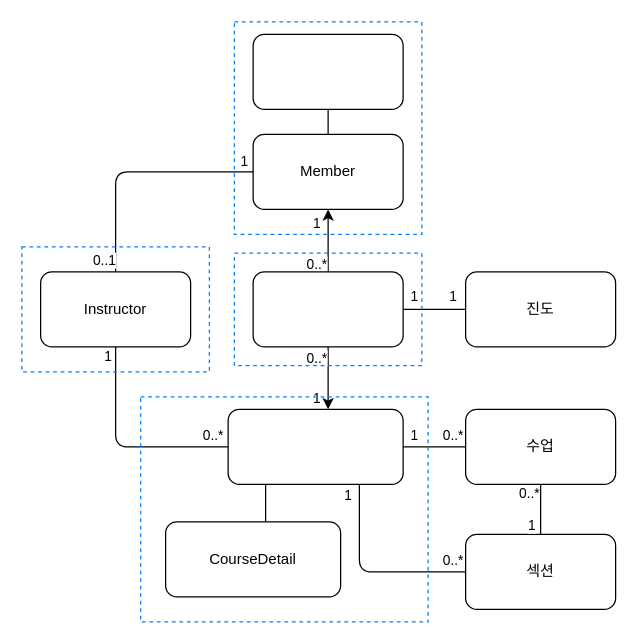
This 639x644 diagram has some shape labels left out. The shapes that lost their labels are listed below. From the top down, each one's centre as x and y in pixels, then its label:
[327,71]: MemberDetail
[327,309]: Enrollment
[315,446]: Course
